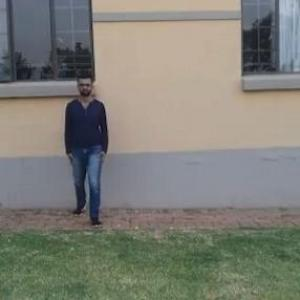follow: (62, 70, 107, 224)
